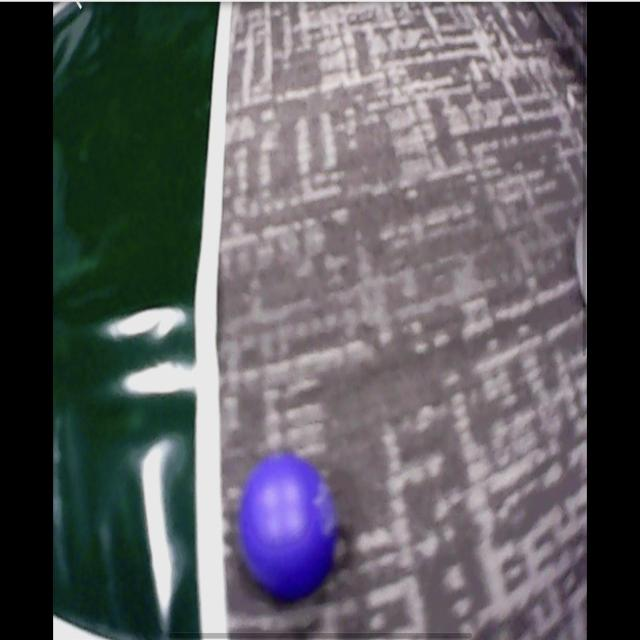ball: (239, 453, 335, 598)
